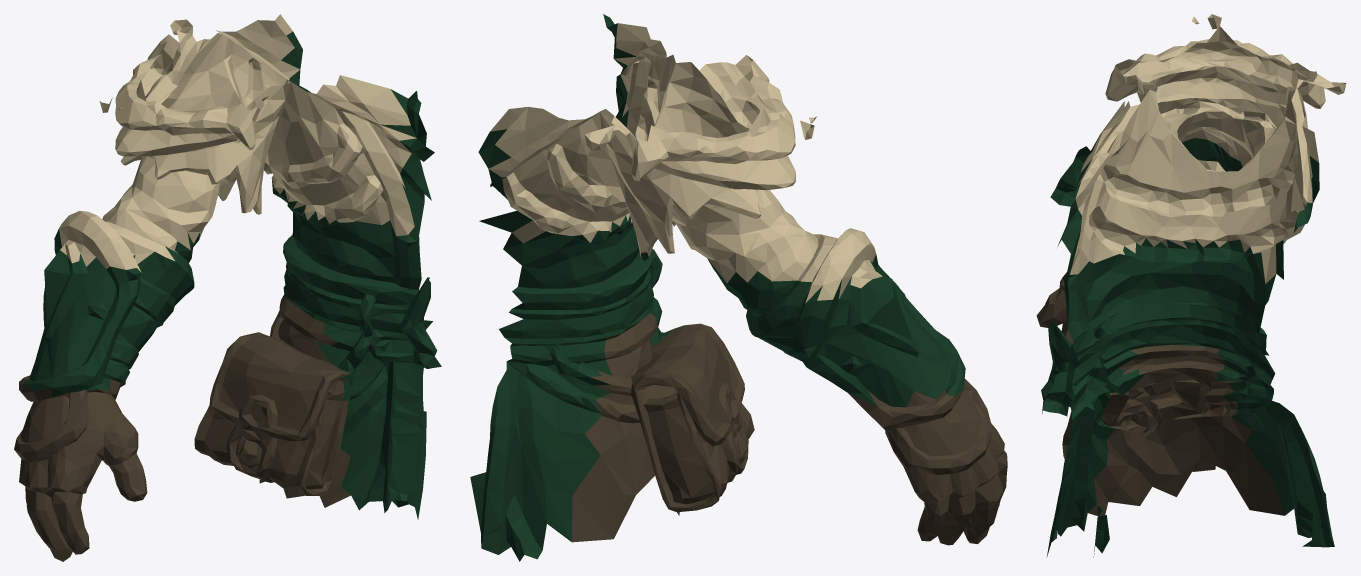
The model's file is necro_arm_r.obj.
3 views of the same model, side by side, from view 1: azimuth 30°, elevation 25°; view 2: azimuth 150°, elevation 25°; view 3: azimuth 270°, elevation 25° (orthographic). The views are drawn at different scales.
Parts seen in each view (by area): view 1: Necro_RightArm; view 2: Necro_RightArm; view 3: Necro_RightArm.
Part boxes in pixels (x1,y1,x2,y2): Necro_RightArm: [14, 14, 441, 561]; Necro_RightArm: [470, 14, 1007, 561]; Necro_RightArm: [1036, 14, 1346, 557].
Size of the model in its own units: 0.6057 by 0.6352 by 0.4054.
